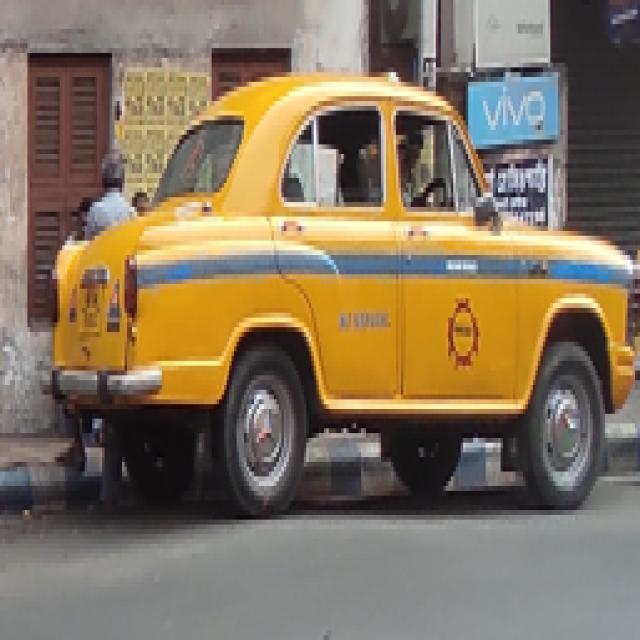ambasador_taxi: (30, 47, 640, 564)
